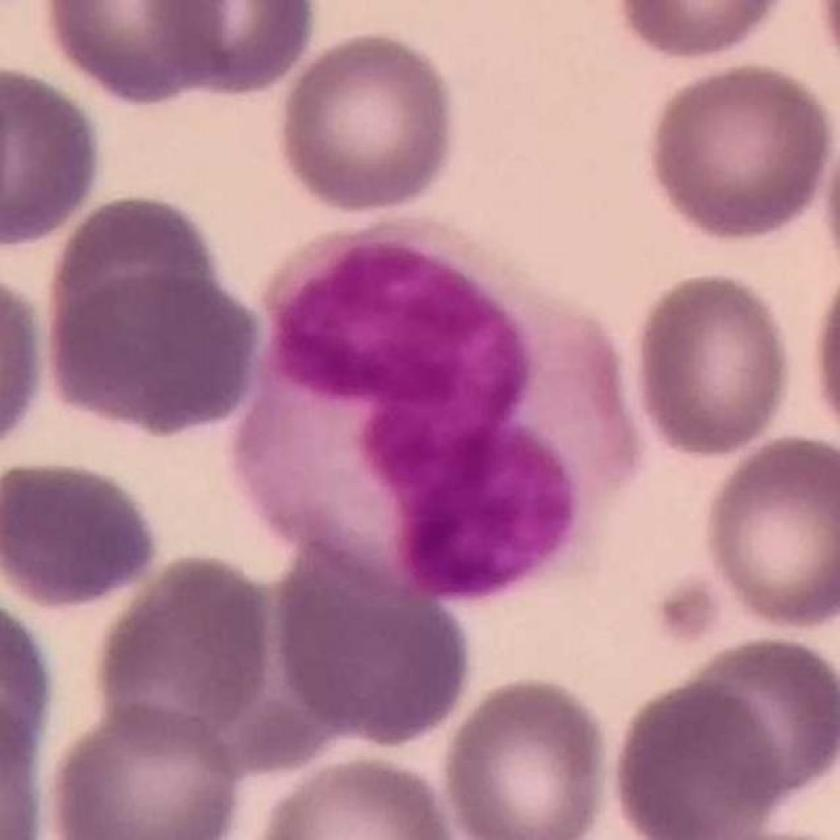monocyte: (235, 208, 651, 605)
